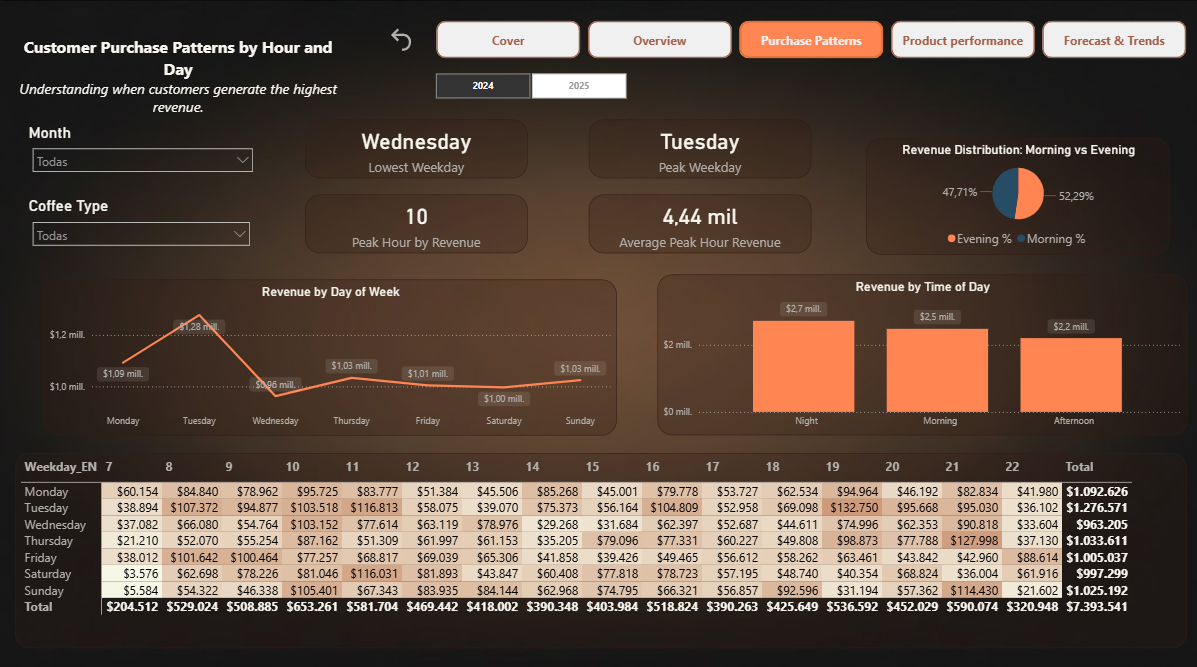

The dashboard page shown, as its layout file describes it:
{"tool":"powerbi","page":{"name":"Purchase Patterns","canvas":[1600,900],"ordinal":2},"visuals":[{"type":"pivotTable","title":"c","fields":{"Columns":["DimTime.hour_of_day"],"Values":["Medidas DAX (2).Revenue"],"Rows":["DimDate.Weekday_EN"]},"box":[20,608,1562,260],"z":0},{"type":"columnChart","title":"Revenue by Time of Day","fields":{"Category":["DimTime.Time_of_Day"],"Y":["Medidas DAX (2).Revenue"]},"box":[876,370,706,214],"z":1000},{"type":"lineChart","title":"Revenue by Day of Week","fields":{"Y":["Medidas DAX (2).Revenue"],"Category":["DimDate.Weekday_EN"]},"box":[58,376,764,208],"z":2000},{"type":"card","fields":{"Values":["Medidas DAX (2).Peak Hour by Revenue"]},"box":[406.7,263.3,296.7,78.3],"z":3000},{"type":"pieChart","title":"Revenue Distribution: Morning vs Evening","fields":{"Y":["Medidas DAX (2).Evening %","Medidas DAX (2).Morning %"]},"box":[1155,188.3,405,155],"z":4000},{"type":"textbox","box":[20,25,435,163.3],"z":5000},{"type":"pageNavigator","box":[582,32,1000,50],"z":6000},{"type":"card","fields":{"Values":["Medidas DAX (2).Lowest Weekday"]},"box":[406.7,163.3,296.7,78.3],"z":7000},{"type":"card","fields":{"Values":["Medidas DAX (2).Peak Weekday"]},"box":[785,163.3,296.7,78.3],"z":8000},{"type":"card","fields":{"Values":["Medidas DAX (2).Average Peak Hour Revenue"]},"box":[785,263.3,296.7,78.3],"z":9000},{"type":"slicer","title":"Month","fields":{"Values":["DimDate.MontName_EN"]},"box":[32.7,168,314,90],"z":10000},{"type":"slicer","title":"Coffee Type","fields":{"Values":["DimProduct.coffee_name"]},"box":[33.5,266,310,90],"z":11000},{"type":"actionButton","box":[515,36.7,40,40],"z":12000},{"type":"slicer","fields":{"Values":["DimDate.Año"]},"box":[555.7,94.3,304.3,47.1],"z":13000}]}

Visuals, with their boxes in screenshot pixels (x1, y1, x2, y2), scaled from the page's 1600x900 canvas onto the 1197x667 screenshot:
"c" pivotTable: l=15, t=451, r=1184, b=643
"Revenue by Time of Day" columnChart: l=655, t=274, r=1184, b=433
"Revenue by Day of Week" lineChart: l=43, t=279, r=615, b=433
card - Medidas DAX (2).Peak Hour by Revenue: l=304, t=195, r=526, b=253
"Revenue Distribution: Morning vs Evening" pieChart: l=864, t=140, r=1167, b=254
textbox: l=15, t=19, r=340, b=140
pageNavigator: l=435, t=24, r=1184, b=61
card - Medidas DAX (2).Lowest Weekday: l=304, t=121, r=526, b=179
card - Medidas DAX (2).Peak Weekday: l=587, t=121, r=809, b=179
card - Medidas DAX (2).Average Peak Hour Revenue: l=587, t=195, r=809, b=253
"Month" slicer: l=24, t=125, r=259, b=191
"Coffee Type" slicer: l=25, t=197, r=257, b=264
actionButton: l=385, t=27, r=415, b=57
slicer - DimDate.Año: l=416, t=70, r=643, b=105
